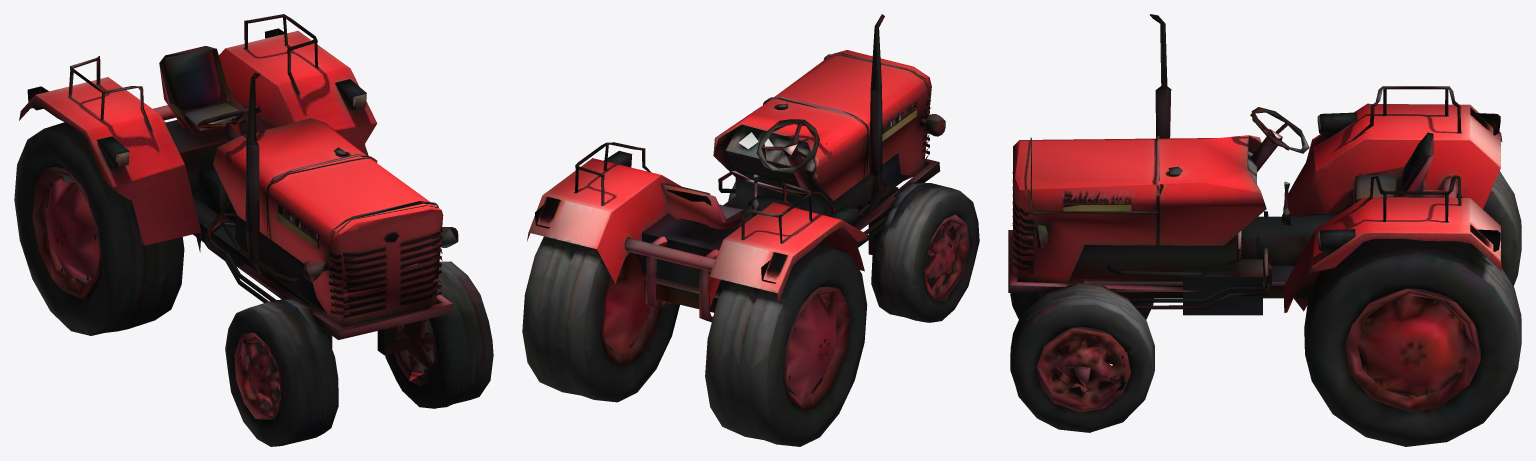
File: pedestal.glb
3 renders of one model, left to right at view 1: azimuth 30°, elevation 25°; view 2: azimuth 150°, elevation 25°; view 3: azimuth 270°, elevation 25°, orthographic. The views are drawn at different scales.
Visible parts, largest first — view 1: Tractor_0; view 2: Tractor_0; view 3: Tractor_0.
Boxes of the visible parts, box(x1,y1,x2,y2) form: Tractor_0: box(14, 14, 493, 446); Tractor_0: box(522, 14, 979, 446); Tractor_0: box(1008, 14, 1521, 446).
Size of the model in its own units: 9.96 by 11.82 by 16.2.
Materials: 1 (1 with a texture image).
